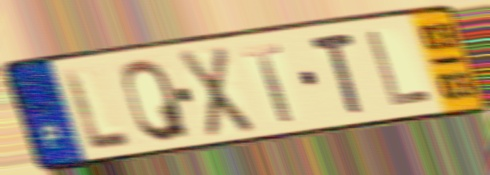L: (59, 64, 134, 154), (363, 28, 436, 110)
Q: (120, 55, 194, 145)
T: (306, 29, 368, 117), (239, 40, 296, 125)
X: (175, 42, 258, 141)
